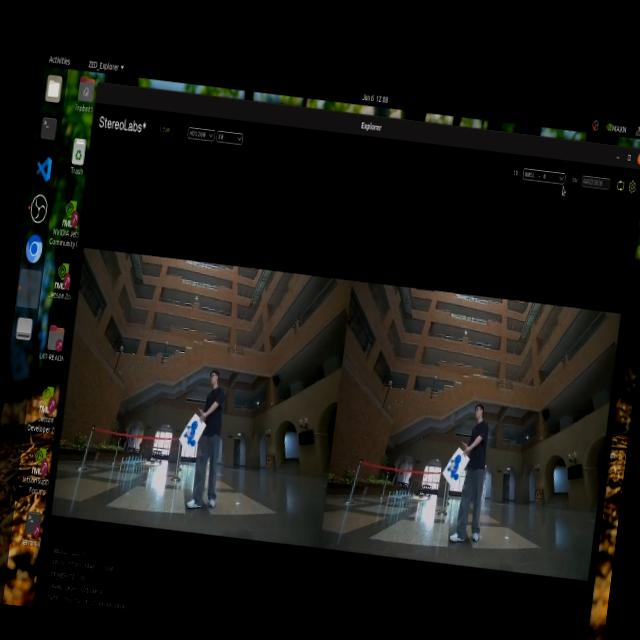blue: (181, 404, 207, 462), (440, 446, 470, 492)
